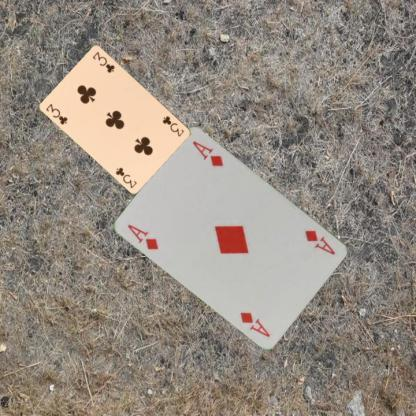3c: (43, 101, 70, 126), (160, 113, 186, 138)
Ad: (302, 226, 337, 256), (125, 222, 160, 252)
